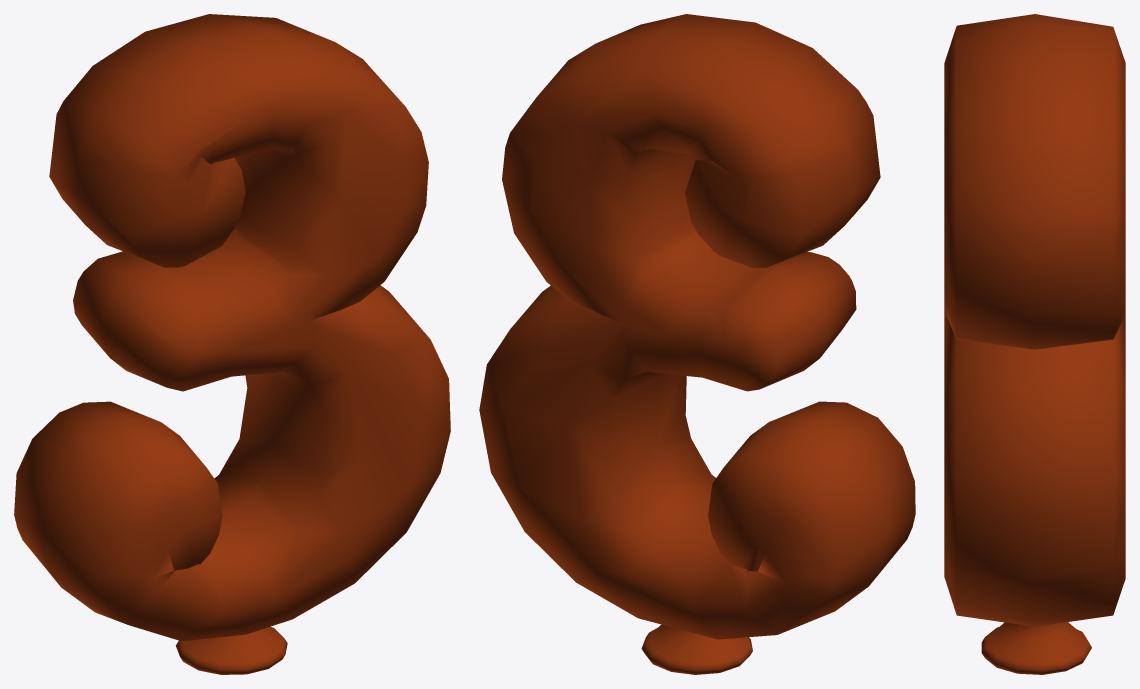
3 renders of one model, left to right at view 1: azimuth 30°, elevation 25°; view 2: azimuth 150°, elevation 25°; view 3: azimuth 270°, elevation 25°, orthographic.
Parts seen in each view (by area): view 1: 3_003; view 2: 3_003; view 3: 3_003.
Part boxes in pixels (box(x1,y1,x2,y2)): 3_003: box(14, 14, 450, 674); 3_003: box(479, 14, 915, 674); 3_003: box(944, 14, 1125, 674).
Size of the model in its own units: 43.26 by 67.19 by 18.02.
